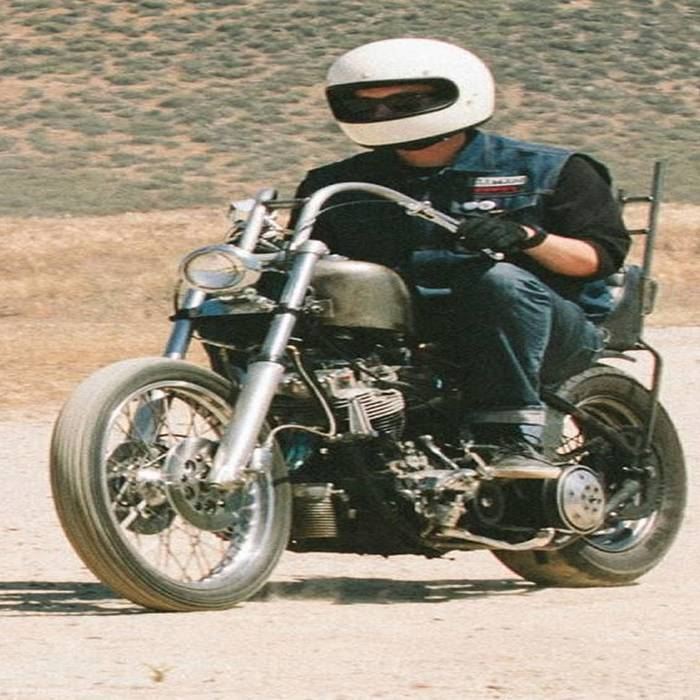h: (321, 30, 499, 156)
